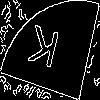K: (24, 24, 62, 79)
